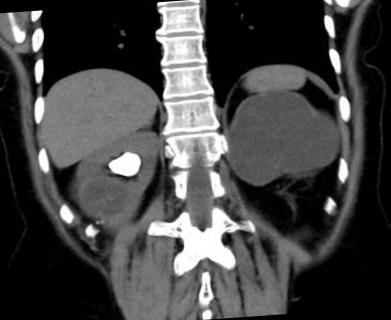Tas_Var: (101, 142, 147, 186), (93, 218, 106, 226)
